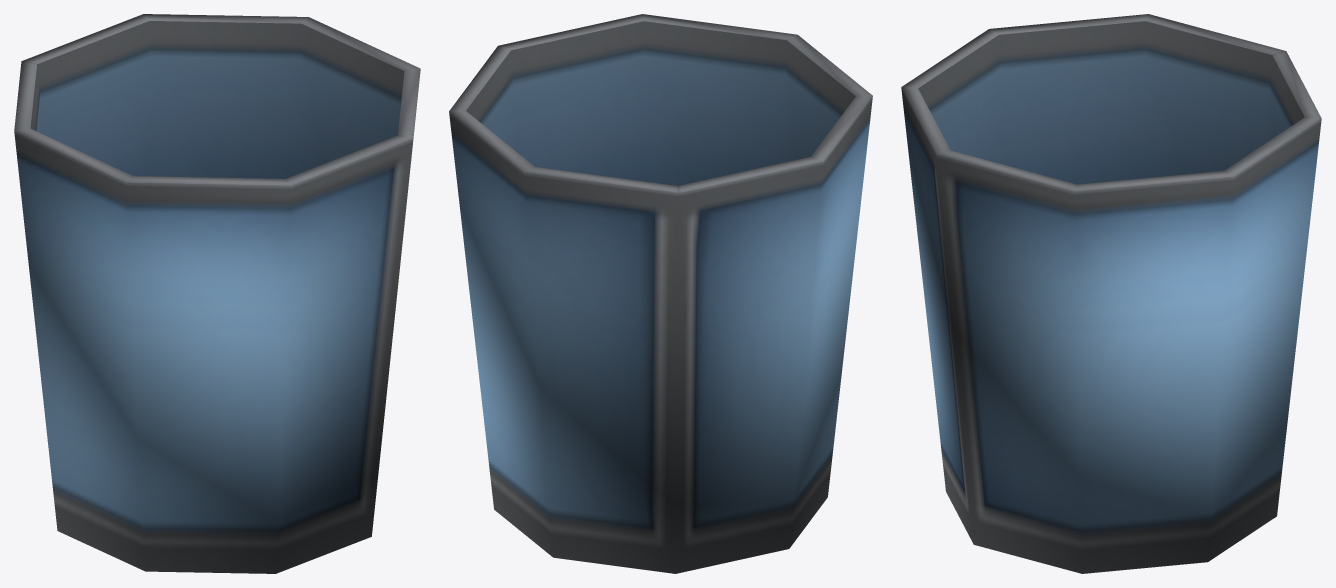
Rendered from TouKuiZheJia_01_lajitong_01.FBX.
3 renders of one model, left to right at view 1: azimuth 30°, elevation 25°; view 2: azimuth 150°, elevation 25°; view 3: azimuth 270°, elevation 25°, orthographic.
Visible parts, largest first — view 1: TouKuiZheJia_lajitong_01; view 2: TouKuiZheJia_lajitong_01; view 3: TouKuiZheJia_lajitong_01.
Boxes of the visible parts, left/top/right/bottom form: TouKuiZheJia_lajitong_01: left=14, top=14, right=420, bottom=573; TouKuiZheJia_lajitong_01: left=449, top=14, right=872, bottom=573; TouKuiZheJia_lajitong_01: left=901, top=14, right=1321, bottom=573.
Size of the model in its own units: 194 by 204 by 194.
